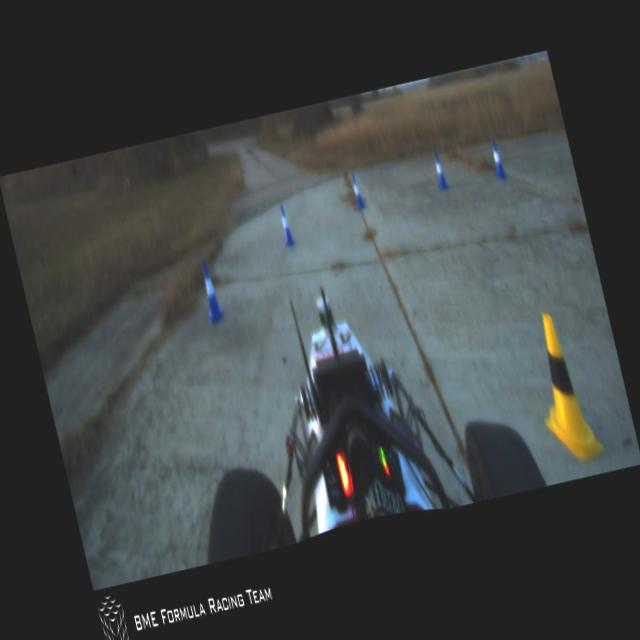blue_cone: (196, 261, 226, 325), (488, 140, 508, 182), (276, 205, 295, 246), (430, 150, 448, 190), (348, 172, 366, 210)
yellow_cone: (522, 306, 604, 467)
